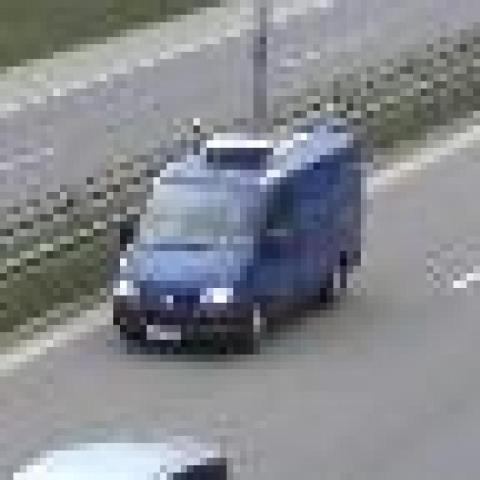van: (117, 129, 364, 351)
